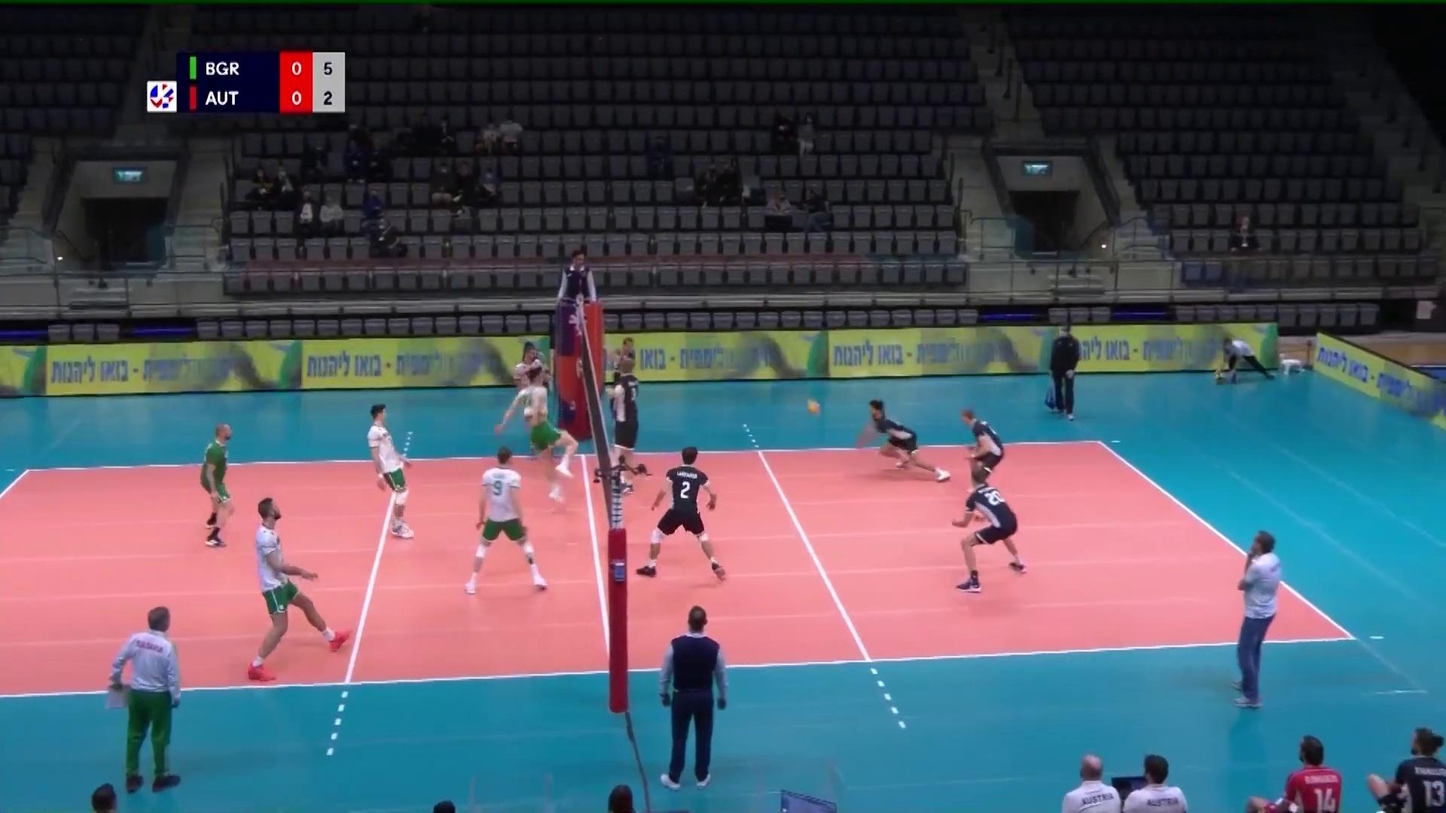ball: (807, 400, 820, 414)
